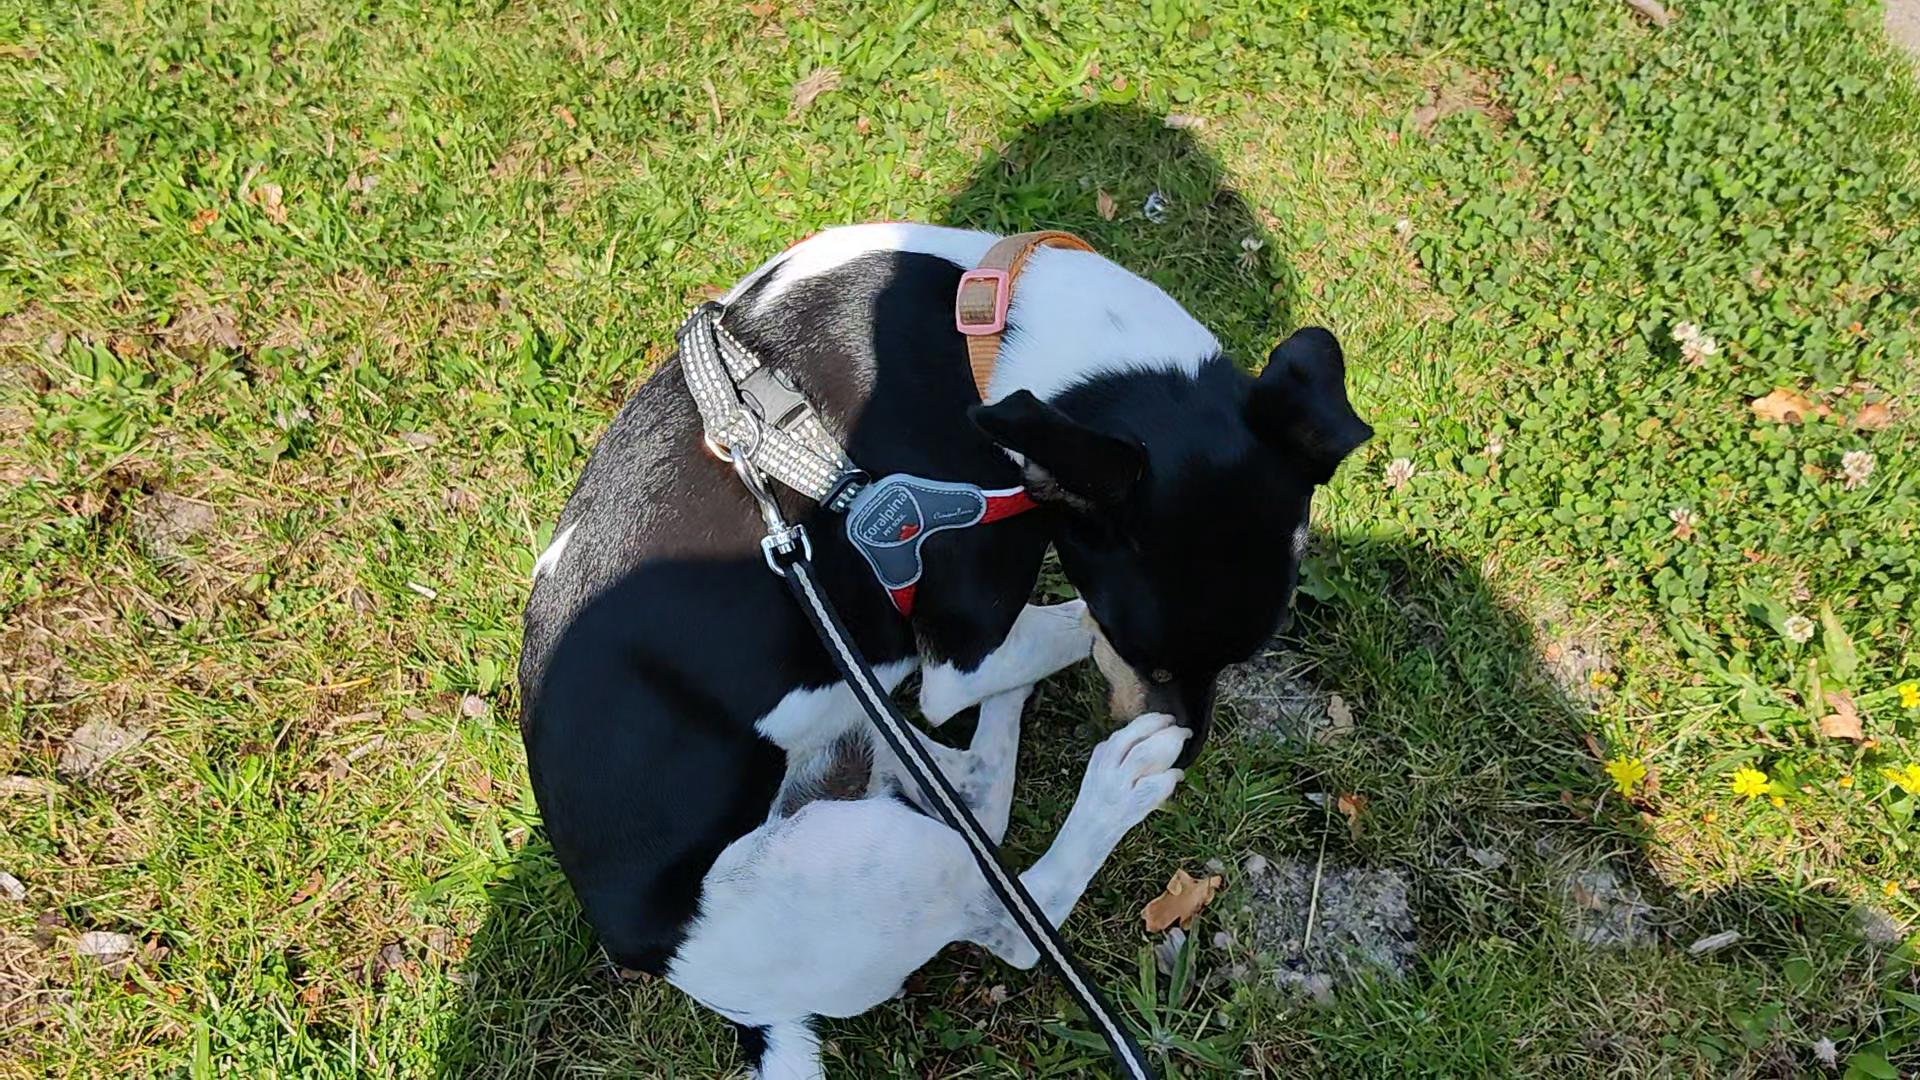Dog: (506, 207, 1377, 1079)
